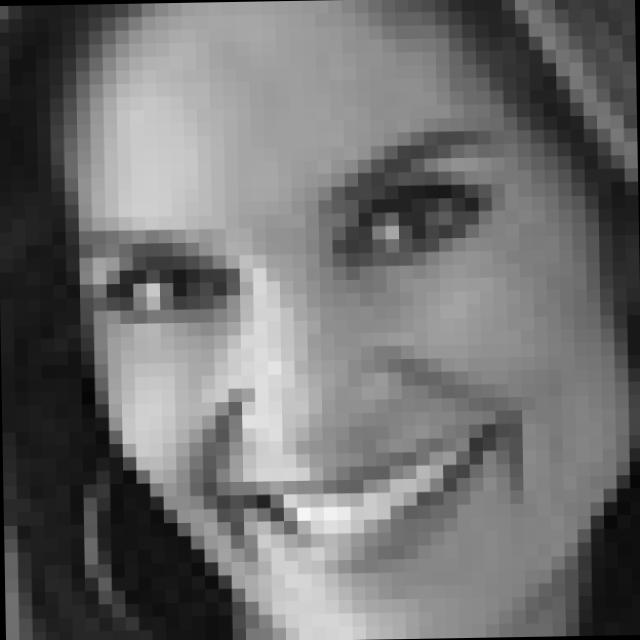happy: (76, 124, 518, 583)
